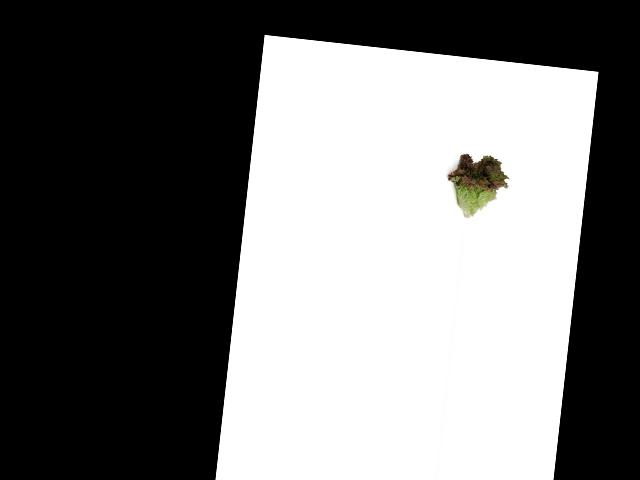lettuce: (437, 142, 514, 223)
